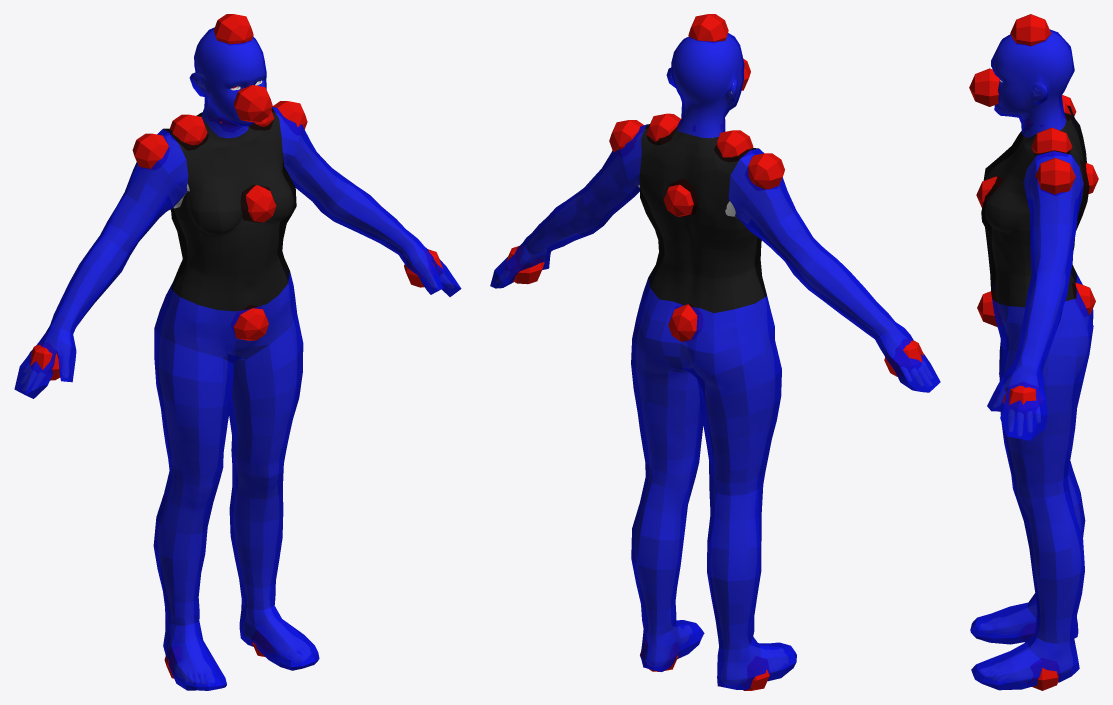
The model's file is V9_Cage_Att_MVC_Template_5.fbx.
The picture shows the model from 3 angles, left to right: view 1: azimuth 30°, elevation 25°; view 2: azimuth 150°, elevation 25°; view 3: azimuth 270°, elevation 25°; orthographic projection.
Parts seen in each view (by area): view 1: UpperTorso_OuterCage, RightUpperLeg_OuterCage, LeftUpperLeg_OuterCage, RightLowerLeg_OuterCage, LeftLowerLeg_OuterCage, LowerTorso_OuterCage, Head_OuterCage, RightUpperArm_OuterCage, RightLowerArm_OuterCage, LeftUpperArm_OuterCage, LeftFoot_OuterCage, LeftLowerArm_OuterCage (+9 smaller); view 2: UpperTorso_OuterCage, RightUpperLeg_OuterCage, LowerTorso_OuterCage, RightLowerLeg_OuterCage, LeftUpperLeg_OuterCage, LeftLowerLeg_OuterCage, Head_OuterCage, RightUpperArm_OuterCage, RightLowerArm_OuterCage, LeftUpperArm_OuterCage, RightFoot_OuterCage, LeftLowerArm_OuterCage (+8 smaller); view 3: UpperTorso_OuterCage, LeftLowerLeg_OuterCage, LeftUpperLeg_OuterCage, Head_OuterCage, LeftUpperArm_OuterCage, LeftFoot_OuterCage, LeftLowerArm_OuterCage, LowerTorso_OuterCage, LeftHand_OuterCage, RightFoot_OuterCage, LeftShoulder_Att, Hat_Att (+9 smaller).
Boxes of the visible parts, box(x1,y1,x2,y2) form: UpperTorso_OuterCage: box(163, 108, 296, 311); RightUpperLeg_OuterCage: box(154, 329, 233, 486); LeftUpperLeg_OuterCage: box(229, 314, 303, 478); RightLowerLeg_OuterCage: box(153, 471, 219, 625); LeftLowerLeg_OuterCage: box(229, 463, 283, 610); LowerTorso_OuterCage: box(154, 271, 296, 363); Head_OuterCage: box(189, 27, 266, 138); RightUpperArm_OuterCage: box(100, 129, 188, 254); RightLowerArm_OuterCage: box(50, 235, 130, 333); LeftUpperArm_OuterCage: box(272, 107, 347, 211); LeftFoot_OuterCage: box(239, 600, 319, 670); LeftLowerArm_OuterCage: box(321, 176, 417, 254); UpperTorso_OuterCage: box(639, 124, 766, 312); RightUpperLeg_OuterCage: box(696, 341, 781, 495); LowerTorso_OuterCage: box(632, 277, 774, 378); RightLowerLeg_OuterCage: box(707, 485, 763, 650); LeftUpperLeg_OuterCage: box(631, 338, 703, 489); LeftLowerLeg_OuterCage: box(631, 476, 695, 635); Head_OuterCage: box(666, 33, 744, 138); RightUpperArm_OuterCage: box(728, 148, 824, 274); RightLowerArm_OuterCage: box(794, 248, 895, 338); LeftUpperArm_OuterCage: box(575, 124, 646, 227); RightFoot_OuterCage: box(717, 636, 796, 689); LeftLowerArm_OuterCage: box(525, 193, 602, 256); UpperTorso_OuterCage: box(981, 105, 1089, 307); LeftLowerLeg_OuterCage: box(1013, 486, 1084, 643); LeftUpperLeg_OuterCage: box(999, 349, 1089, 497); Head_OuterCage: box(991, 29, 1074, 138); LeftUpperArm_OuterCage: box(1023, 151, 1083, 278); LeftFoot_OuterCage: box(971, 633, 1079, 690); LeftLowerArm_OuterCage: box(1013, 271, 1069, 371); LowerTorso_OuterCage: box(992, 273, 1093, 356); LeftHand_OuterCage: box(987, 364, 1047, 440); RightFoot_OuterCage: box(970, 593, 1078, 644); LeftShoulder_Att: box(1035, 158, 1075, 194); Hat_Att: box(1010, 14, 1051, 46).
Size of the model in its own units: 4.08 by 5.88 by 1.06.
